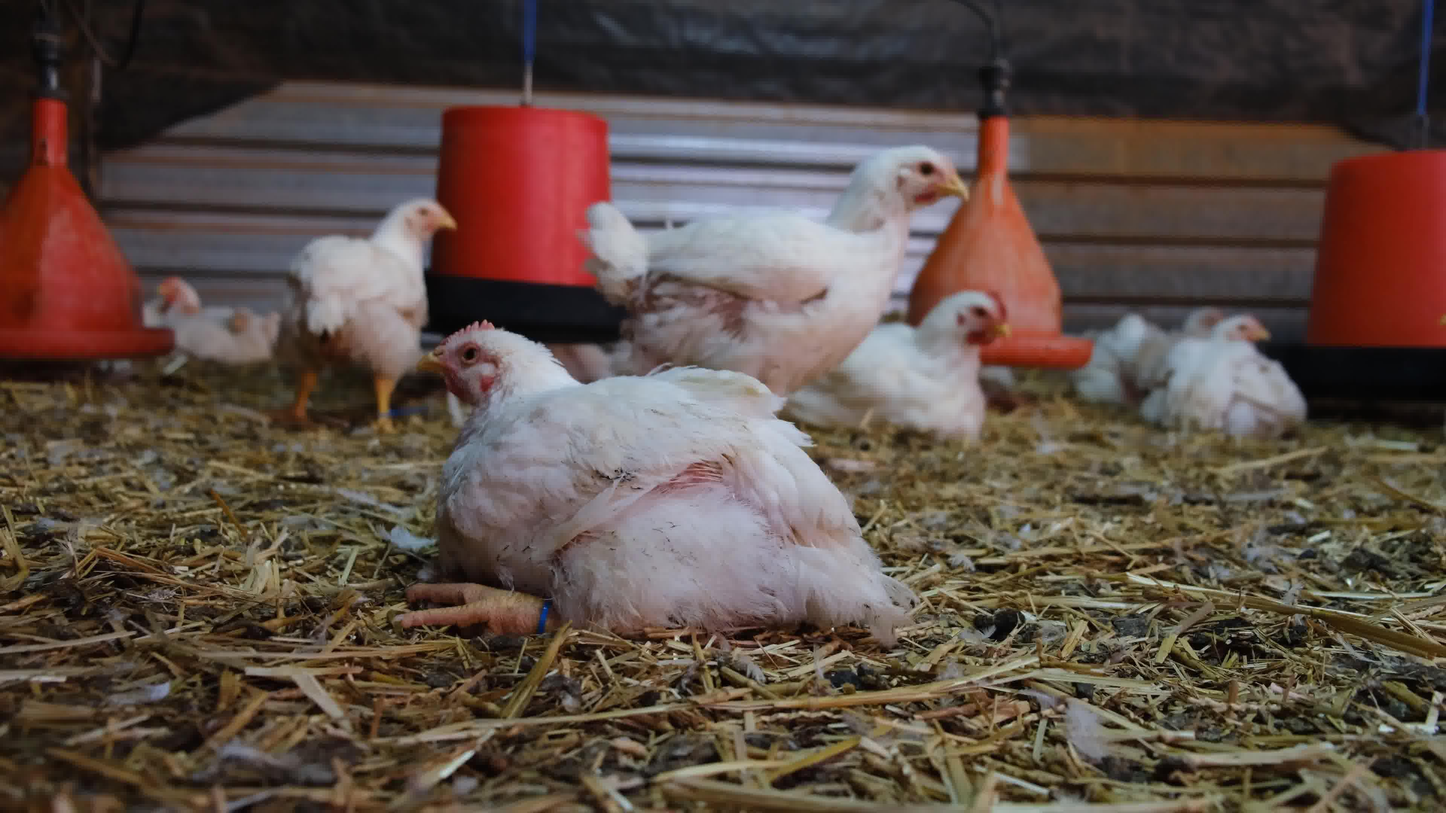AbNormal: (407, 323, 896, 645), (786, 285, 1013, 440), (1147, 317, 1315, 443), (1081, 303, 1226, 416), (147, 271, 284, 380)
Normal: (578, 147, 976, 414), (283, 196, 456, 431)
